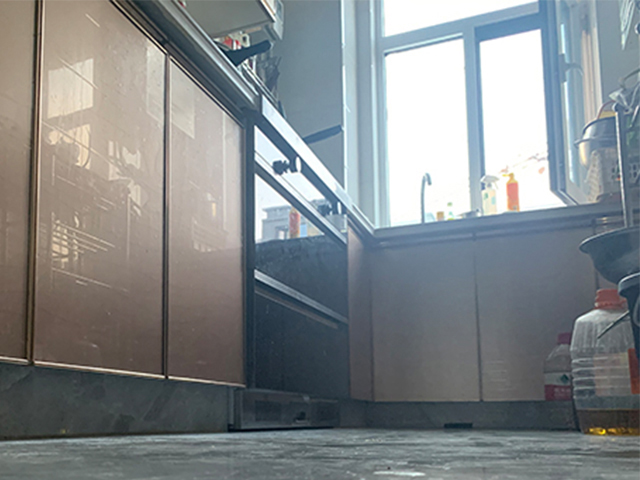cabinet: (1, 1, 255, 435), (373, 208, 584, 428)
